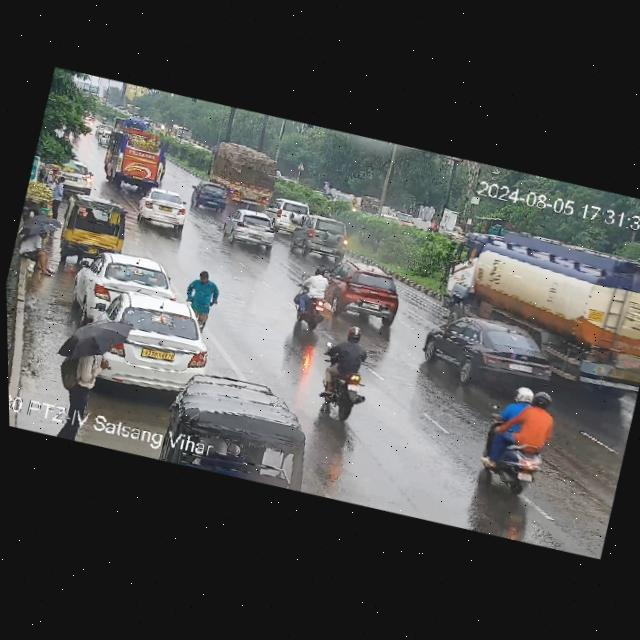bus: (100, 116, 173, 192)
car: (157, 366, 320, 491), (412, 304, 560, 396), (89, 289, 217, 394), (80, 247, 183, 342), (315, 252, 406, 332), (56, 194, 134, 263), (217, 205, 284, 255), (287, 210, 352, 261), (135, 185, 194, 238), (38, 152, 99, 197), (266, 195, 315, 232), (191, 182, 229, 219), (357, 191, 384, 219)
motorcycle: (475, 378, 557, 500), (312, 319, 382, 431), (290, 265, 334, 332)
person: (46, 316, 111, 442), (181, 266, 223, 335), (18, 225, 67, 277), (43, 170, 72, 219)
truck: (439, 215, 640, 357), (199, 138, 284, 220)
